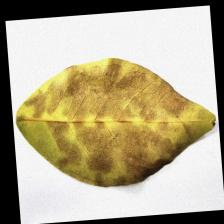canker: (33, 68, 178, 174)
